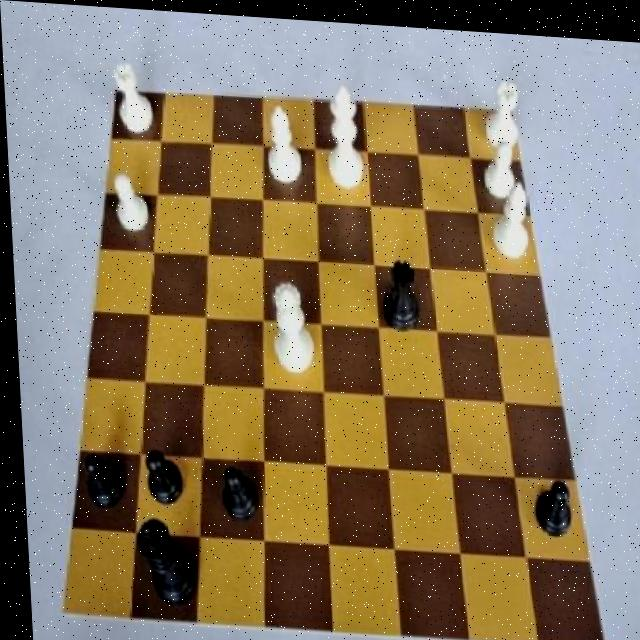black-bishop: (124, 513, 197, 621)
black-knight: (68, 441, 126, 522), (134, 432, 185, 516), (521, 465, 576, 541), (211, 453, 260, 534)
black-queen: (371, 244, 423, 329)
black-rook: (484, 170, 537, 261), (262, 97, 306, 190)
white-bishop: (316, 72, 367, 193)
white-knight: (480, 129, 522, 200), (110, 168, 150, 239)
white-pawn: (267, 273, 316, 385)
white-queen: (107, 55, 165, 141), (477, 68, 526, 151)
